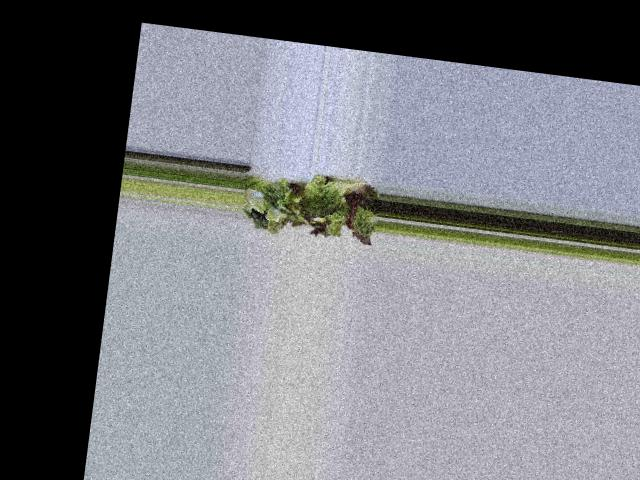lettuce: (247, 175, 376, 240)
